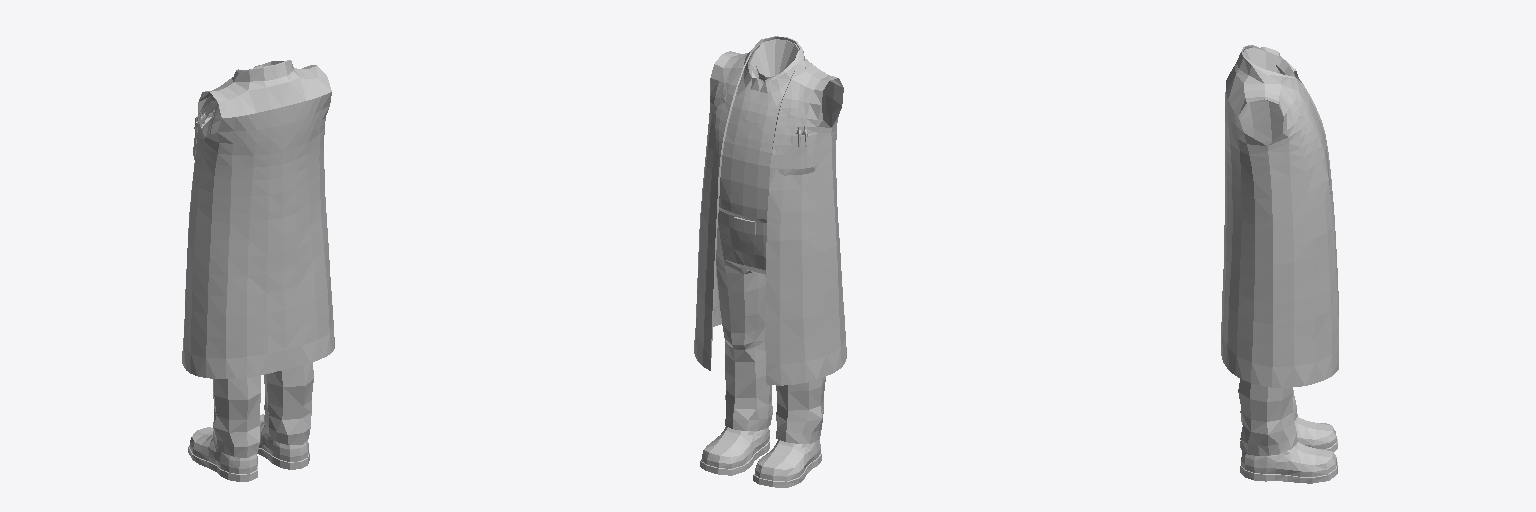
Rendered from cuerpo2Oak.obj.
3 renders of one model, left to right at view 1: azimuth 30°, elevation 25°; view 2: azimuth 150°, elevation 25°; view 3: azimuth 270°, elevation 25°, orthographic.
Visible parts, largest first — view 1: Spine1, Spine2, Spine3, LSkirtC2, LSkirtC1, LLeg, RSkirtC2, LSkirtB1, RLeg, RSkirtC1, LSkirtB2, LShoulder (+3 smaller); view 2: Spine1, Spine3, Spine2, LSkirtB1, RThigh, LSkirtB2, RLeg, LShoulder, Hips, LLeg, LSkirtA2, LSkirtA1 (+7 smaller); view 3: RSkirtB1, RSkirtB2, Spine1, Spine2, RLeg, Spine3, RShoulder, RFoot, RSkirtC2, RSkirtC1, RSkirtA2, RSkirtA1 (+2 smaller).
Boxes of the visible parts, x1,y1,x2,y2 form: Spine1: [189, 159, 325, 240]; Spine2: [193, 112, 325, 195]; Spine3: [195, 61, 320, 153]; LSkirtC2: [216, 294, 285, 378]; LSkirtC1: [227, 221, 284, 315]; LLeg: [213, 375, 260, 455]; RSkirtC2: [285, 274, 333, 368]; LSkirtB1: [185, 202, 228, 317]; RLeg: [264, 362, 313, 441]; RSkirtC1: [284, 201, 325, 308]; LSkirtB2: [182, 284, 225, 378]; LShoulder: [198, 78, 256, 143]; Spine1: [701, 146, 837, 240]; Spine3: [710, 39, 837, 145]; Spine2: [706, 96, 836, 188]; LSkirtB1: [780, 211, 842, 317]; RThigh: [716, 253, 765, 349]; LSkirtB2: [780, 286, 846, 384]; RLeg: [725, 340, 772, 431]; LShoulder: [780, 59, 843, 133]; Hips: [716, 207, 766, 274]; LLeg: [776, 377, 825, 443]; LSkirtA2: [765, 300, 804, 385]; LSkirtA1: [765, 224, 801, 320]; RSkirtB1: [1238, 222, 1329, 324]; RSkirtB2: [1237, 303, 1331, 387]; Spine1: [1225, 123, 1331, 244]; Spine2: [1225, 99, 1328, 198]; RLeg: [1238, 379, 1296, 455]; Spine3: [1225, 47, 1318, 154]; RShoulder: [1228, 76, 1307, 150]; RFoot: [1240, 433, 1305, 482]; RSkirtC2: [1221, 278, 1241, 378]; RSkirtC1: [1223, 207, 1241, 304]; RSkirtA2: [1315, 288, 1338, 379]; RSkirtA1: [1314, 213, 1336, 317].
Size of the model in its own units: 4.35 by 12.22 by 3.2.